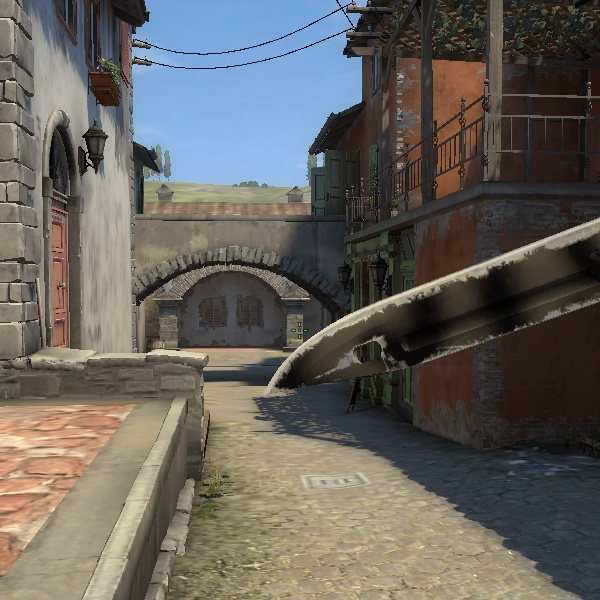t_body: (233, 0, 599, 471)
